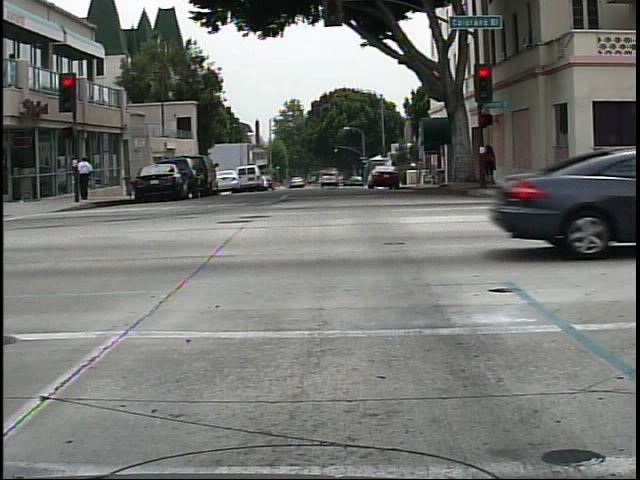person: (475, 138, 506, 193), (80, 147, 98, 201)
